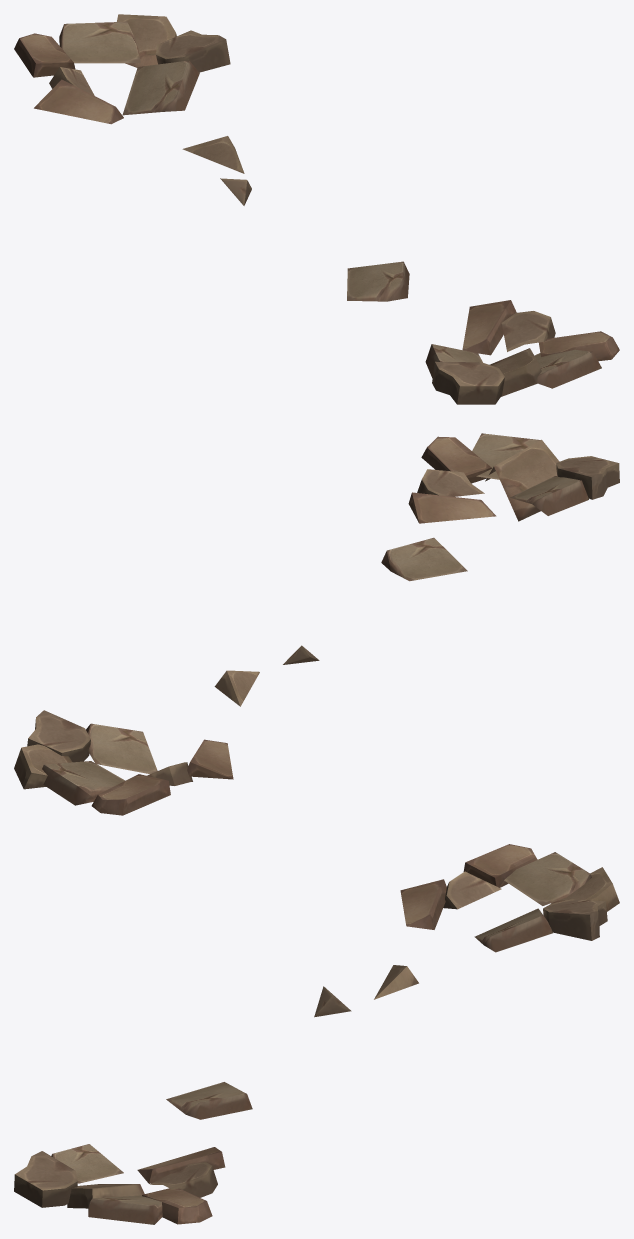
File: Steps02_Build_LostTemple_004.FBX
The picture shows the model from 3 angles, top to bottom: view 1: azimuth 30°, elevation 25°; view 2: azimuth 150°, elevation 25°; view 3: azimuth 330°, elevation 25°; orthographic projection.
Parts seen in each view (by area): view 1: Steps02_Build_LostTemple_004; view 2: Steps02_Build_LostTemple_004; view 3: Steps02_Build_LostTemple_004.
Boxes of the visible parts, box(x1,y1,x2,y2) form: Steps02_Build_LostTemple_004: box(14, 14, 619, 404); Steps02_Build_LostTemple_004: box(14, 433, 619, 815); Steps02_Build_LostTemple_004: box(14, 844, 619, 1224).
Bounding box in the file's own units: 104 × 25.43 × 446.
Materials: 1 (1 with a texture image).
